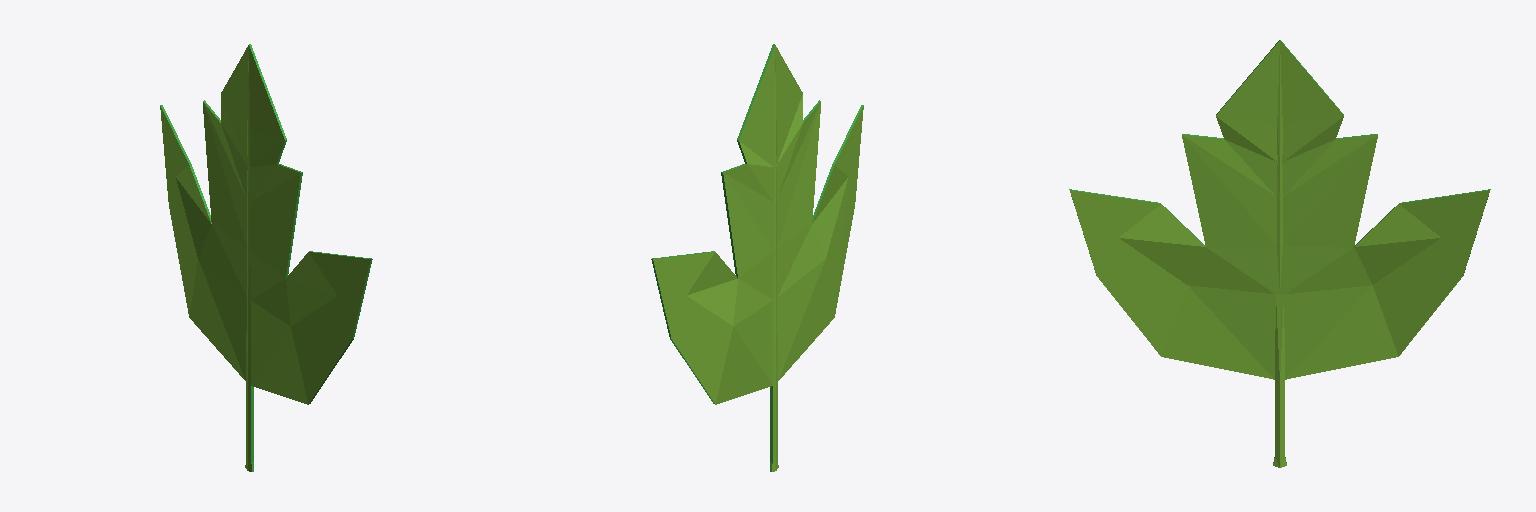
The model's file is Leaf_01.obj.
3 renders of one model, left to right at view 1: azimuth 30°, elevation 25°; view 2: azimuth 150°, elevation 25°; view 3: azimuth 270°, elevation 25°, orthographic.
Parts seen in each view (by area): view 1: leaf_Plane.007; view 2: leaf_Plane.007; view 3: leaf_Plane.007.
Boxes of the visible parts, box(x1,y1,x2,y2) form: leaf_Plane.007: box(160, 44, 372, 471); leaf_Plane.007: box(651, 44, 863, 471); leaf_Plane.007: box(1069, 40, 1490, 467).
Size of the model in its own units: 0.6229 by 10.94 by 9.8.